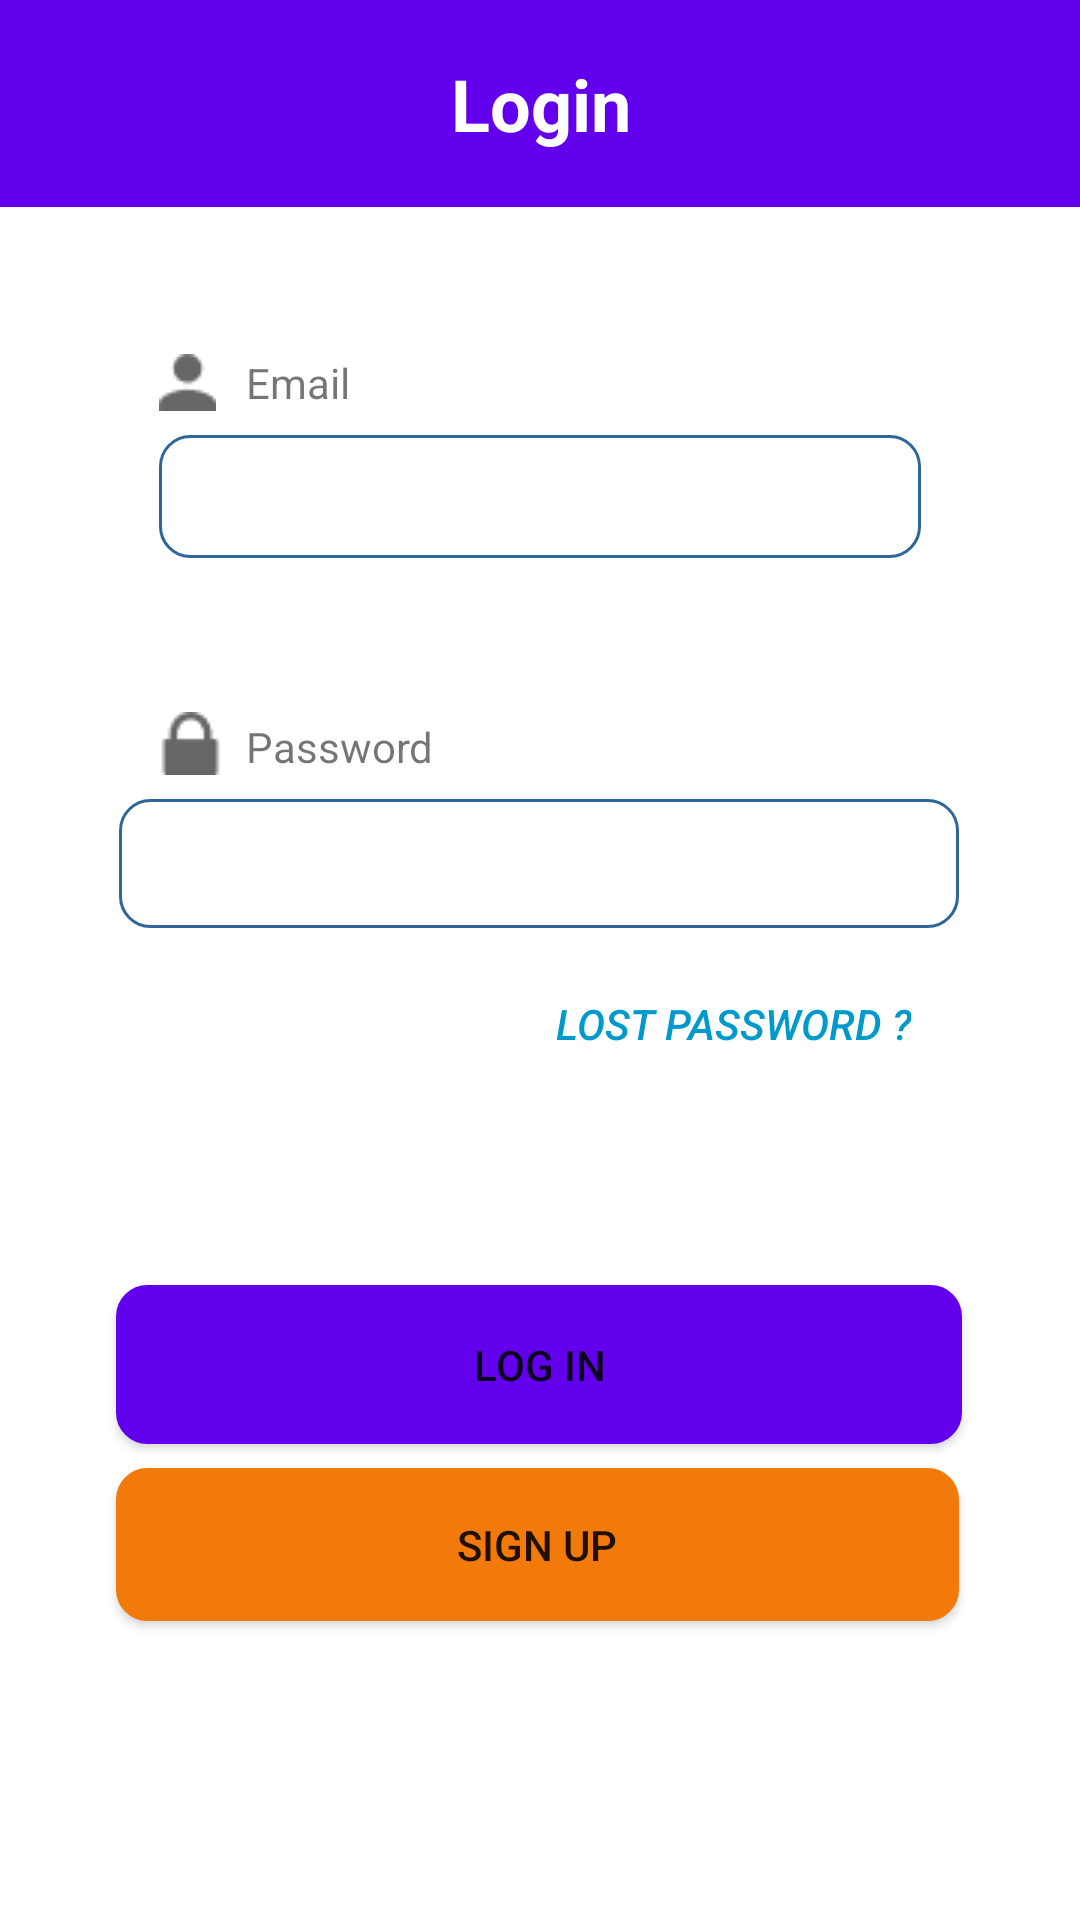

Screen size 1080*1920. Icon name, then its box in pixels as (x1, y1, x2, y2):
user: (159, 354, 216, 411)
